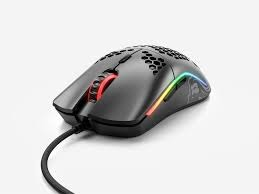mouse: (49, 31, 214, 145)
